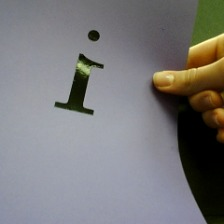violet1: (49, 21, 111, 119)
